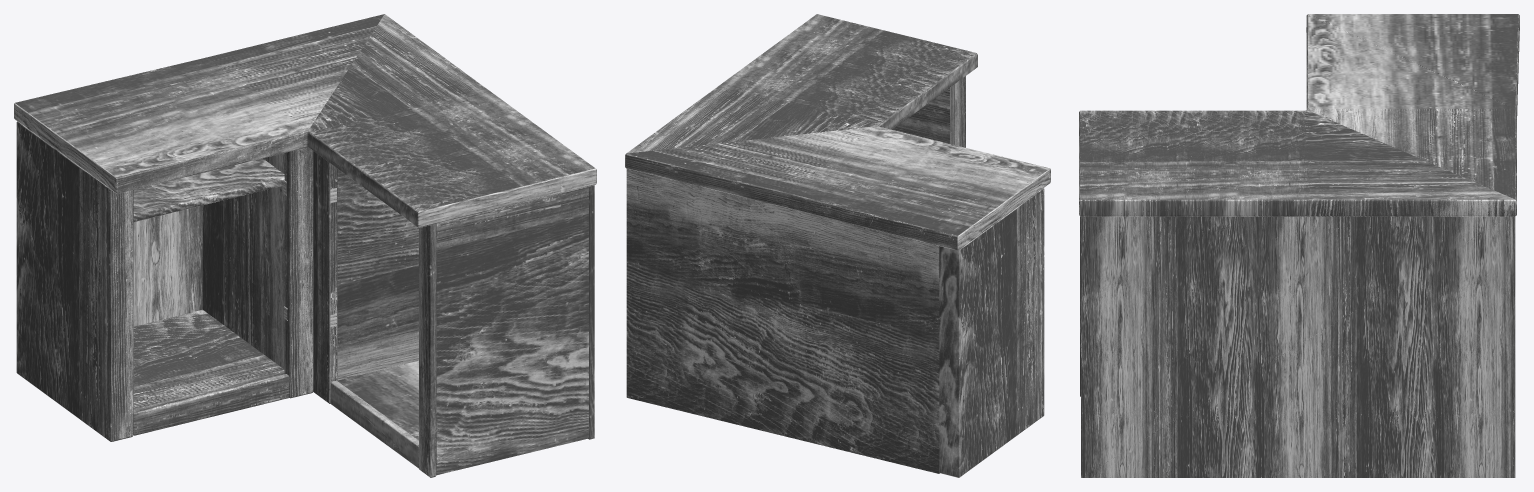
Rendered from SM_KitchenSet_A1_Corner.fbx.
The picture shows the model from 3 angles, left to right: view 1: azimuth 30°, elevation 25°; view 2: azimuth 150°, elevation 25°; view 3: azimuth 270°, elevation 25°; orthographic projection. The views are drawn at different scales.
Parts seen in each view (by area): view 1: SM_KitchenSet_A1_Corner; view 2: SM_KitchenSet_A1_Corner; view 3: SM_KitchenSet_A1_Corner.
Boxes of the visible parts, x1,y1,x2,y2 form: SM_KitchenSet_A1_Corner: [14, 14, 596, 477]; SM_KitchenSet_A1_Corner: [625, 14, 1050, 477]; SM_KitchenSet_A1_Corner: [1079, 14, 1519, 477].
Bounding box in the file's own units: 121 × 121 × 84.38.
Materials: 2 (2 with a texture image).
